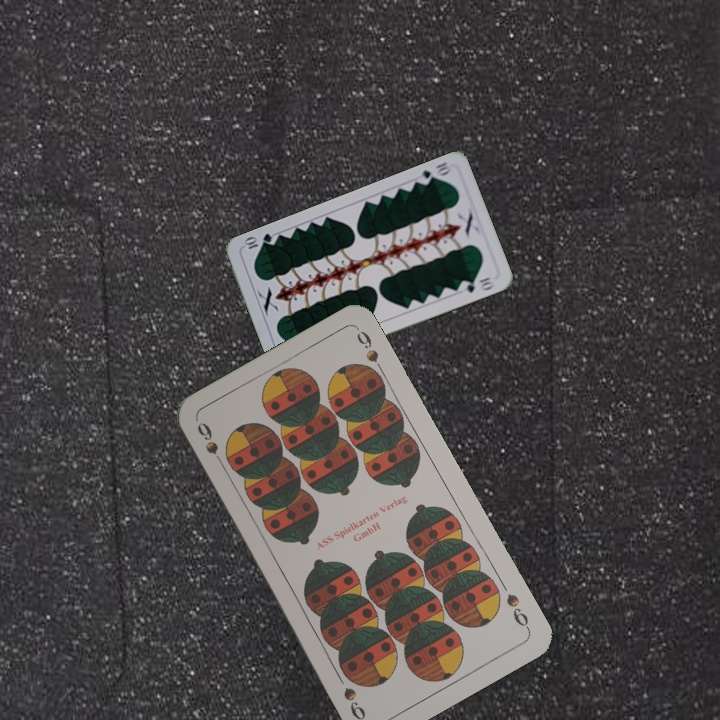G10: (416, 158, 454, 188)
S9: (193, 418, 229, 472), (501, 589, 533, 633)
